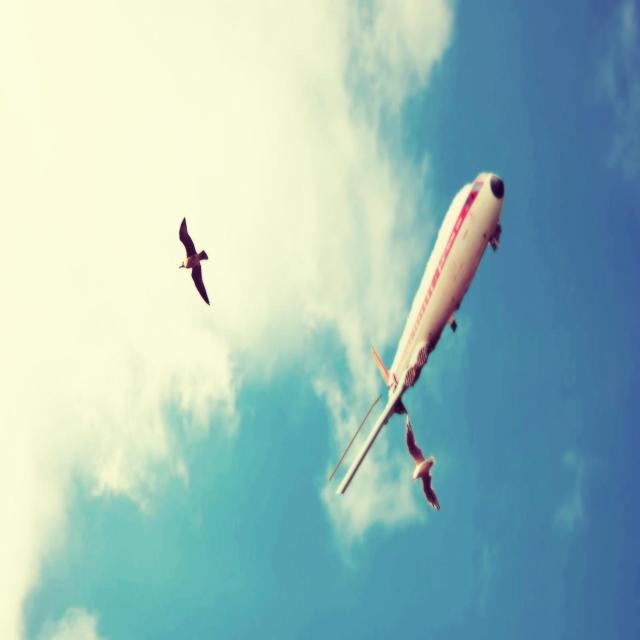airplane: (328, 170, 505, 496)
